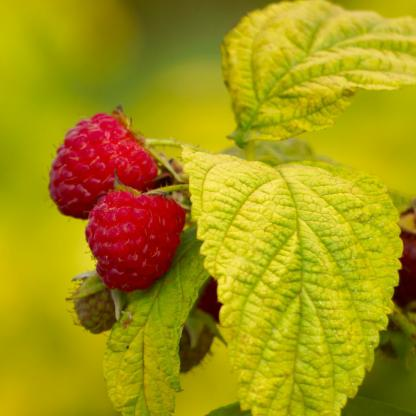Raspberry leaf: (176, 141, 403, 416), (220, 7, 416, 142)
